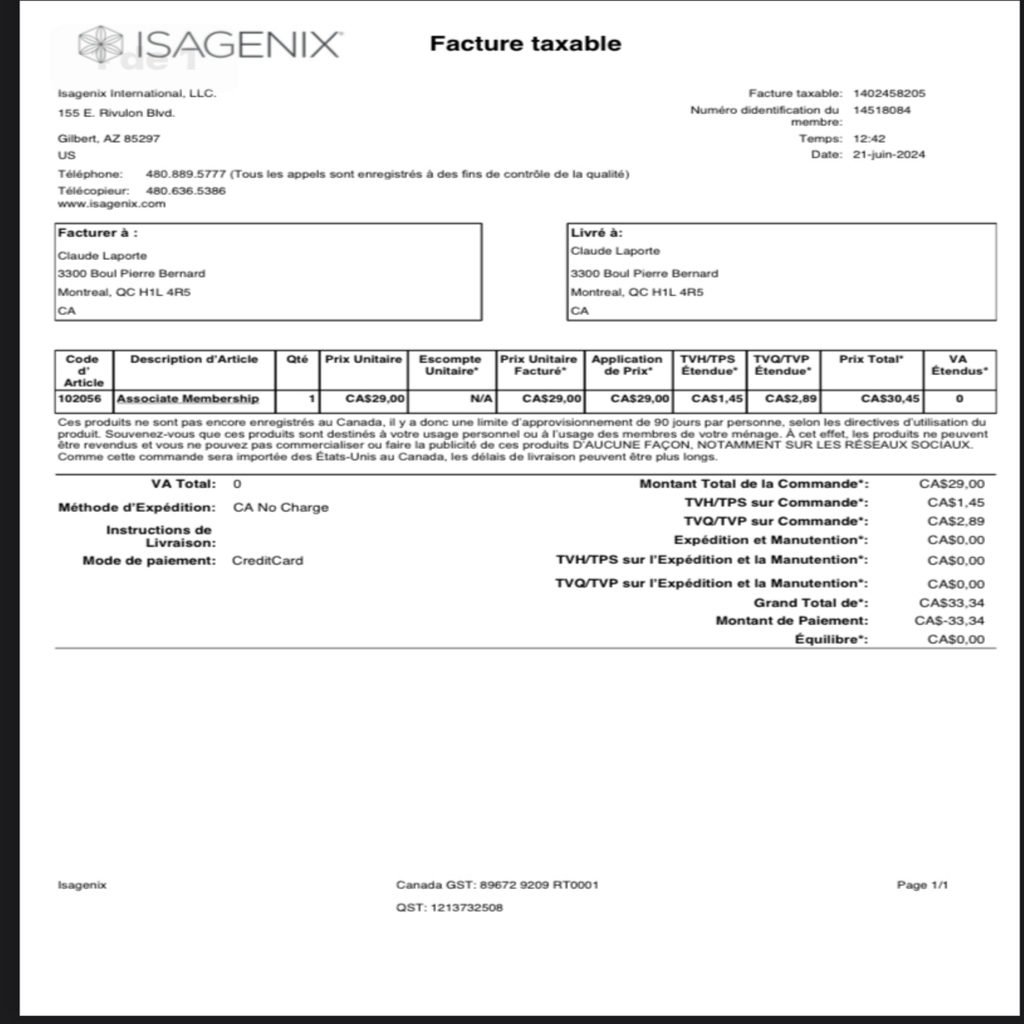recipt: (21, 2, 1016, 1011)
